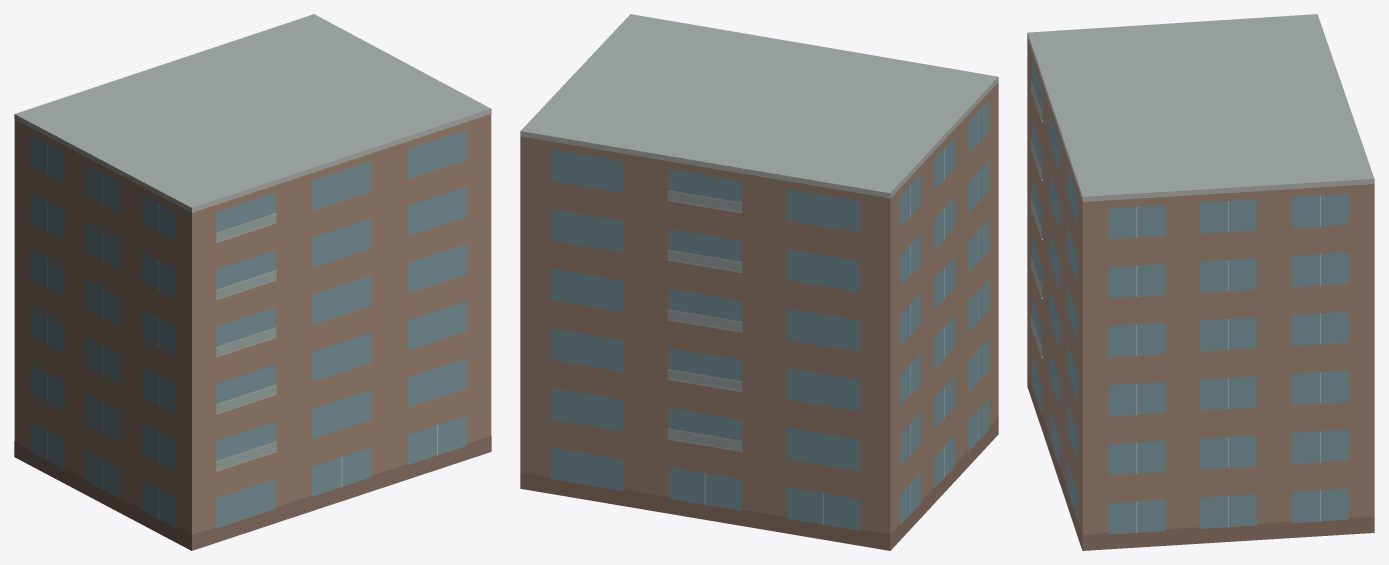
Rendered from survey-upis-32973911.glb.
The picture shows the model from 3 angles, left to right: view 1: azimuth 30°, elevation 25°; view 2: azimuth 150°, elevation 25°; view 3: azimuth 270°, elevation 25°; orthographic projection. The views are drawn at different scales.
Parts seen in each view (by area): view 1: survey-upis-32973911.tmp; view 2: survey-upis-32973911.tmp; view 3: survey-upis-32973911.tmp.
Boxes of the visible parts, x1,y1,x2,y2 form: survey-upis-32973911.tmp: [14, 14, 491, 550]; survey-upis-32973911.tmp: [520, 14, 998, 550]; survey-upis-32973911.tmp: [1027, 14, 1374, 550].
Bounding box in the file's own units: 18.4 × 16.6 × 14.76.
